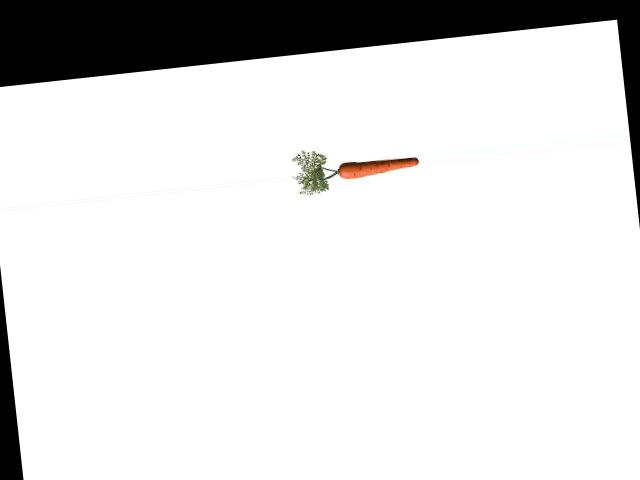carrot: (330, 149, 423, 184)
